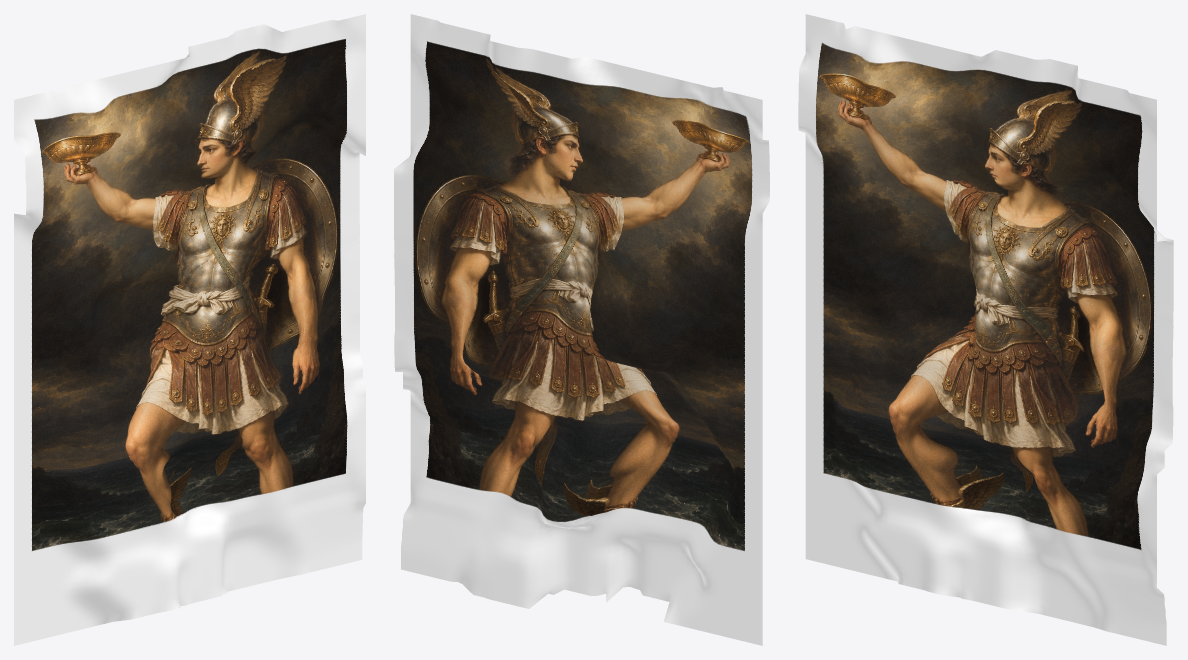
Rendered from perseus-painted-relief.glb.
The picture shows the model from 3 angles, left to right: view 1: azimuth 30°, elevation 25°; view 2: azimuth 150°, elevation 25°; view 3: azimuth 330°, elevation 25°; orthographic projection.
Visible parts, largest first — view 1: Perseus_Painted_Relief; view 2: Perseus_Painted_Relief; view 3: Perseus_Painted_Relief.
Part boxes in pixels (x1=…): Perseus_Painted_Relief: x1=14, y1=14, x2=365, y2=645; Perseus_Painted_Relief: x1=394, y1=14, x2=769, y2=645; Perseus_Painted_Relief: x1=798, y1=14, x2=1173, y2=645.
Bounding box in the file's own units: 1.81 × 2.71 × 0.2587.
Materials: 1 (1 with a texture image).
